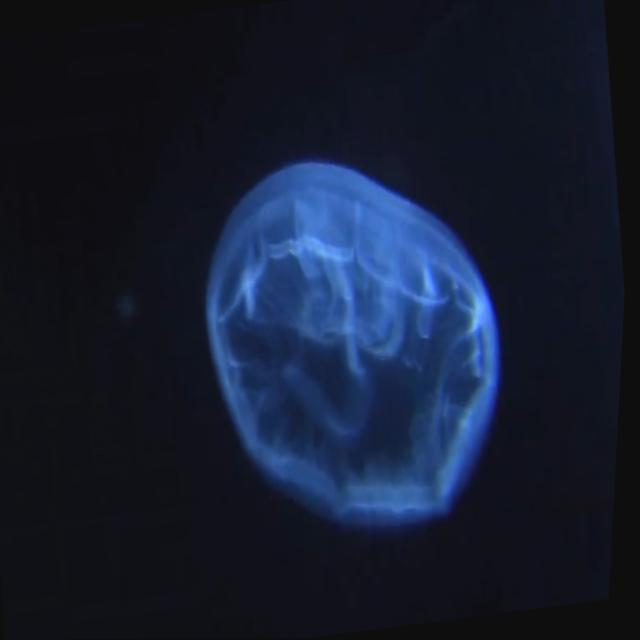Moon-jellyfish: (208, 162, 501, 523)
